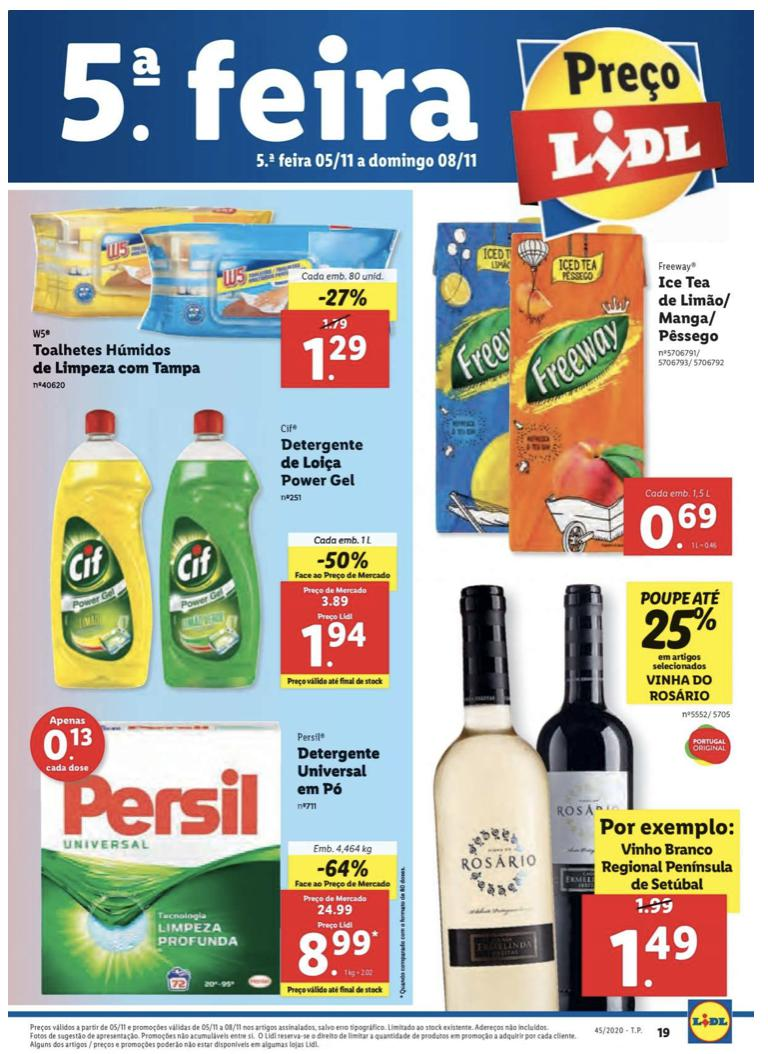name: (26, 339, 208, 383), (654, 275, 737, 346), (273, 435, 368, 494), (294, 741, 382, 801)
price: (284, 318, 391, 387), (604, 926, 699, 998), (295, 613, 380, 678), (293, 918, 380, 980)
product: (428, 575, 743, 994), (35, 694, 399, 1014), (428, 209, 745, 575), (39, 409, 399, 694), (17, 200, 402, 403)
promotion: (634, 609, 725, 653), (311, 285, 373, 315), (308, 550, 371, 576), (311, 857, 373, 881)
